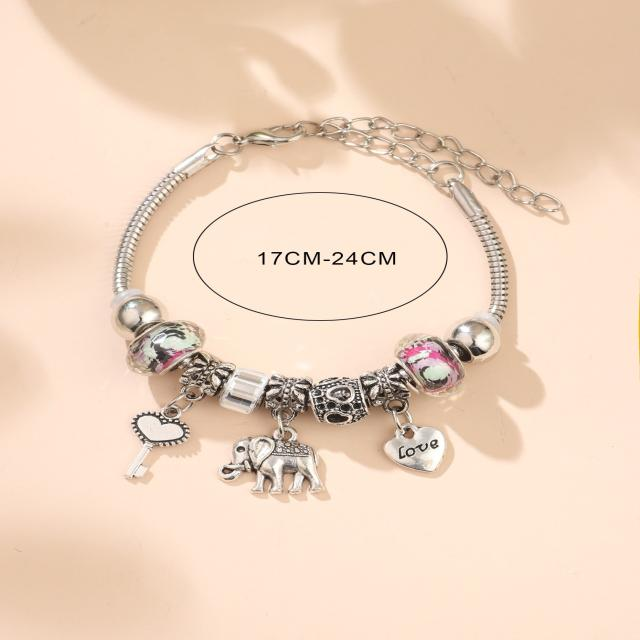bracelet: (54, 73, 637, 566)
